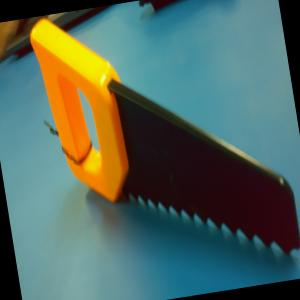serrote: (25, 0, 300, 292)
